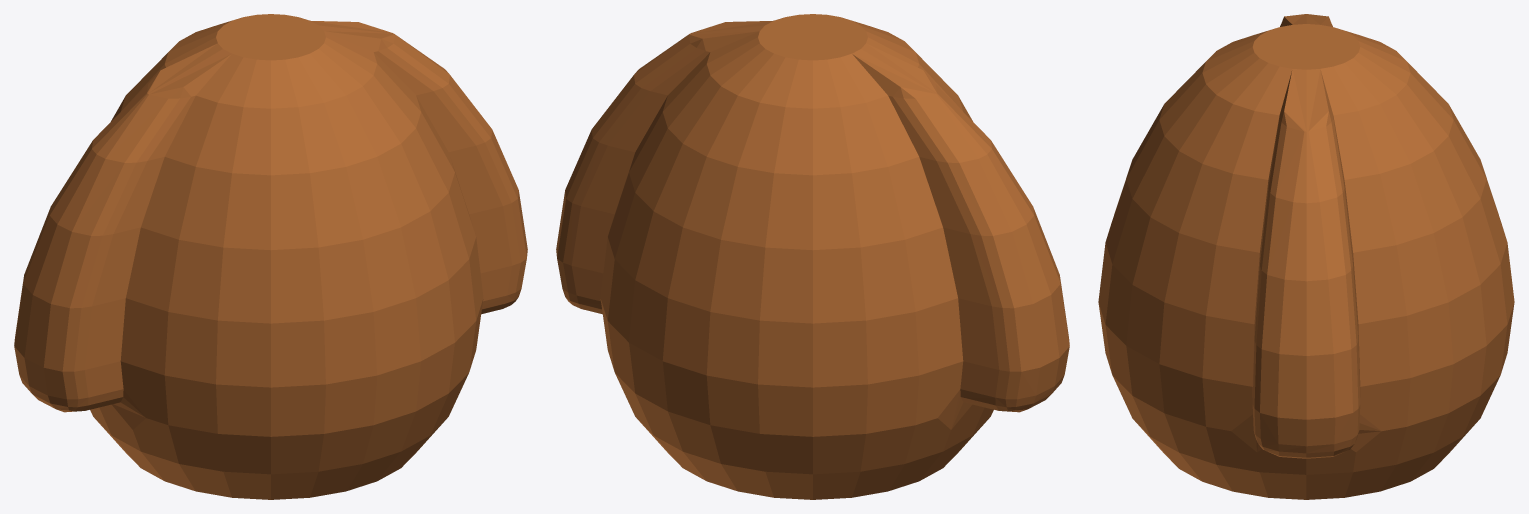
Rendered from character_dog.obj.
3 renders of one model, left to right at view 1: azimuth 30°, elevation 25°; view 2: azimuth 150°, elevation 25°; view 3: azimuth 270°, elevation 25°, orthographic. The views are drawn at different scales.
Parts seen in each view (by area): view 1: character_dog_Cube.046; view 2: character_dog_Cube.046; view 3: character_dog_Cube.046.
Boxes of the visible parts, x1=… form: character_dog_Cube.046: x1=14, y1=14, x2=527, y2=499; character_dog_Cube.046: x1=556, y1=14, x2=1069, y2=499; character_dog_Cube.046: x1=1098, y1=14, x2=1514, y2=499.
Bounding box in the file's own units: 0.9379 × 0.7256 × 0.7.
